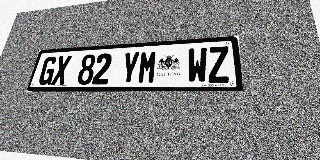2: (92, 53, 113, 85)
8: (76, 54, 97, 85)
G: (37, 56, 58, 85)
M: (137, 50, 158, 84)
W: (187, 47, 208, 83)
X: (51, 55, 72, 85)
Y: (119, 51, 140, 84)
Z: (208, 46, 230, 83)
